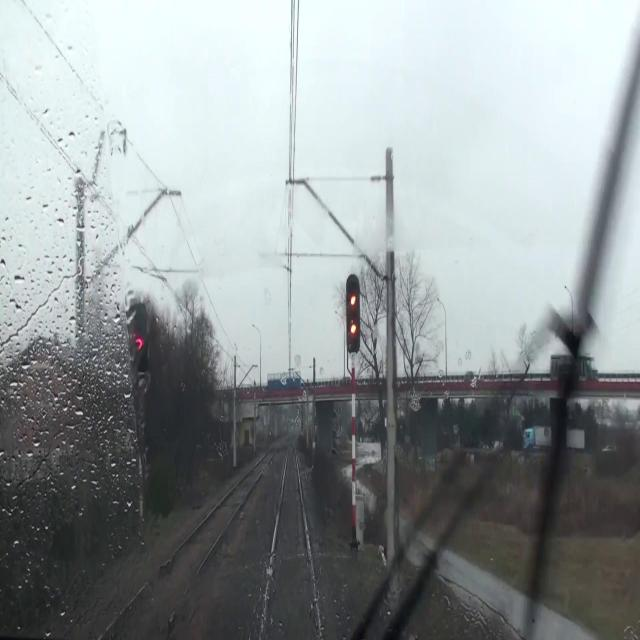rail-track: (105, 465, 261, 639), (263, 444, 318, 639)
